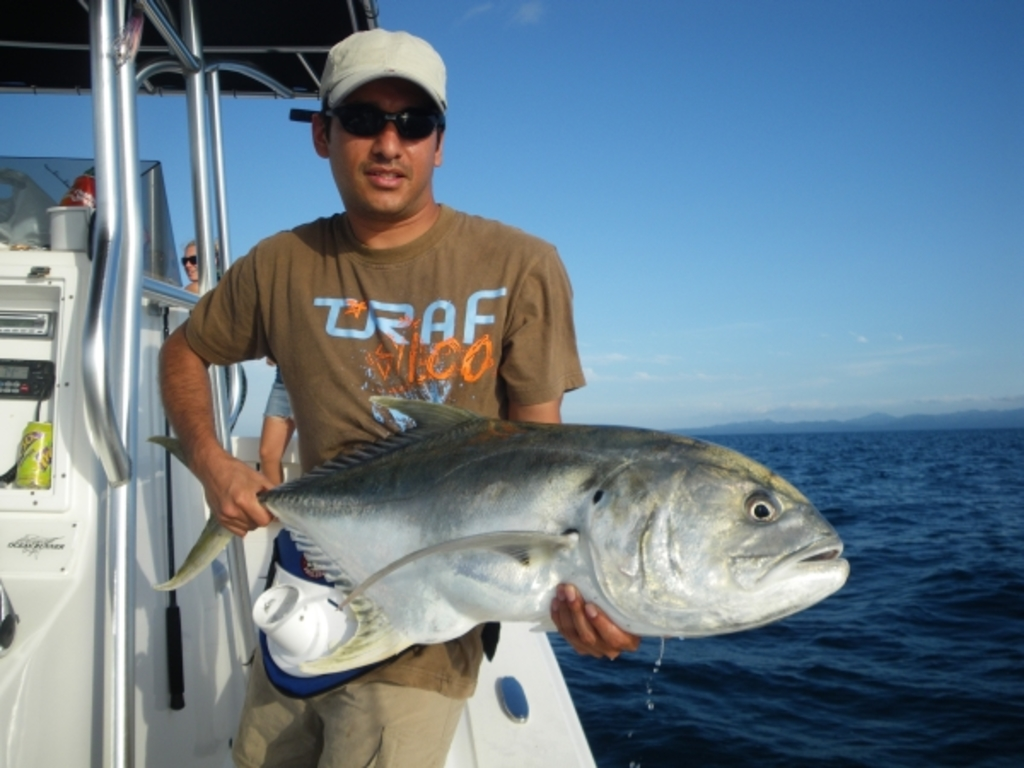Person: (157, 28, 640, 768)
